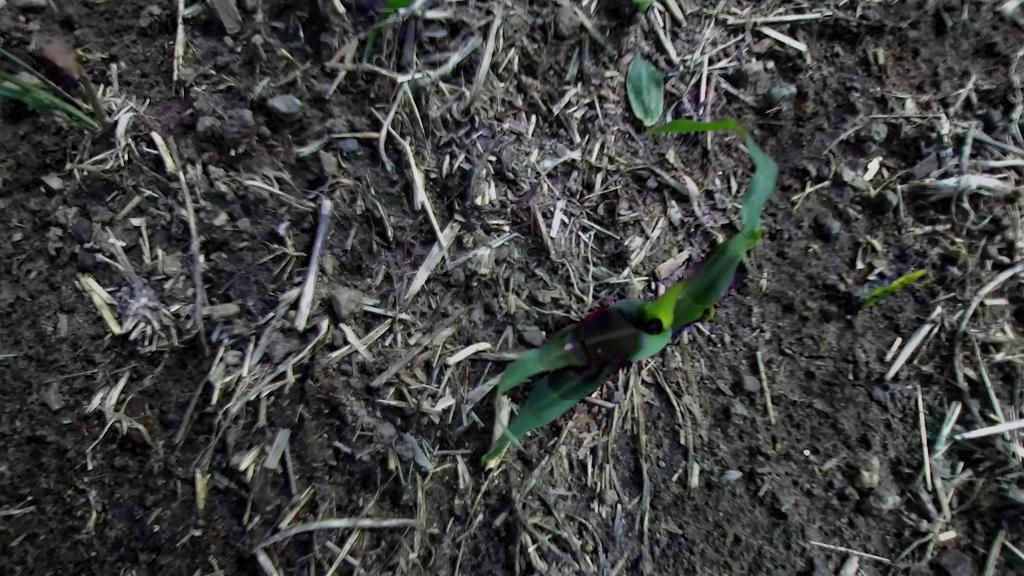BroWeed: (438, 11, 472, 30), (60, 416, 72, 426)
Maize: (452, 85, 806, 529)
NarWeed: (0, 34, 126, 142), (848, 261, 928, 317)
